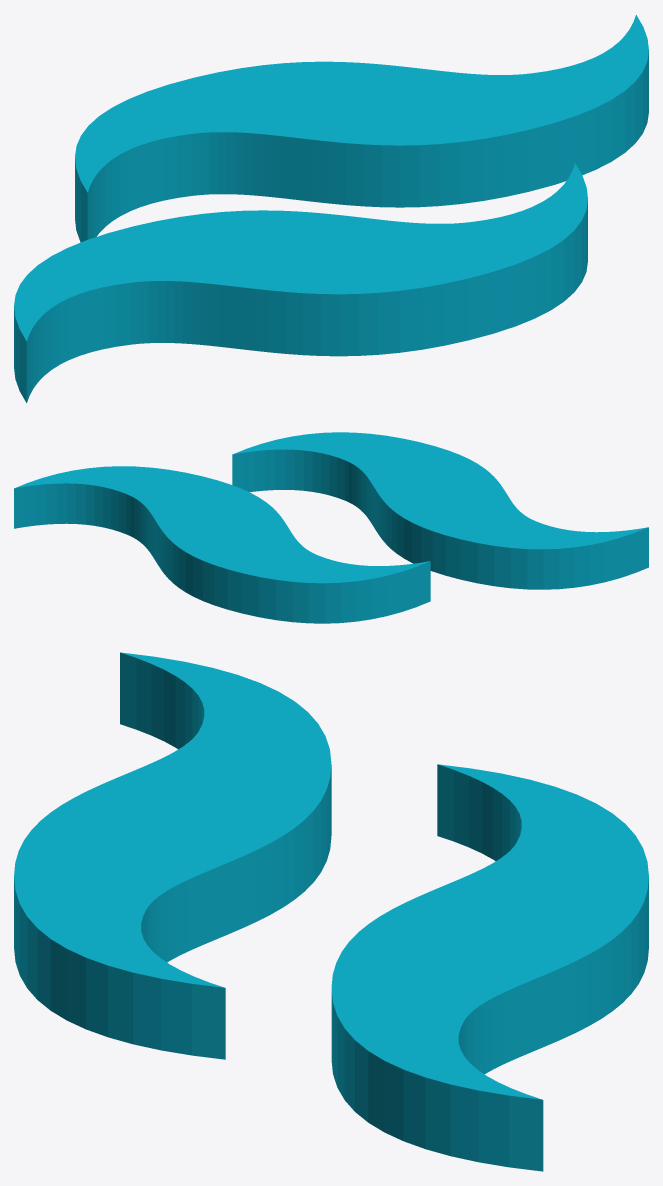
The model's file is tailwindcss.glb.
3 views of the same model, one above another, from view 1: azimuth 30°, elevation 25°; view 2: azimuth 150°, elevation 25°; view 3: azimuth 270°, elevation 25° (orthographic). The views are drawn at different scales.
Parts seen in each view (by area): view 1: Curve; view 2: Curve; view 3: Curve.
Part boxes in pixels (x1,y1,x2,y2): Curve: [14, 15, 648, 402]; Curve: [14, 432, 648, 623]; Curve: [14, 652, 648, 1171].
Size of the model in its own units: 1 by 0.075 by 0.6016.
